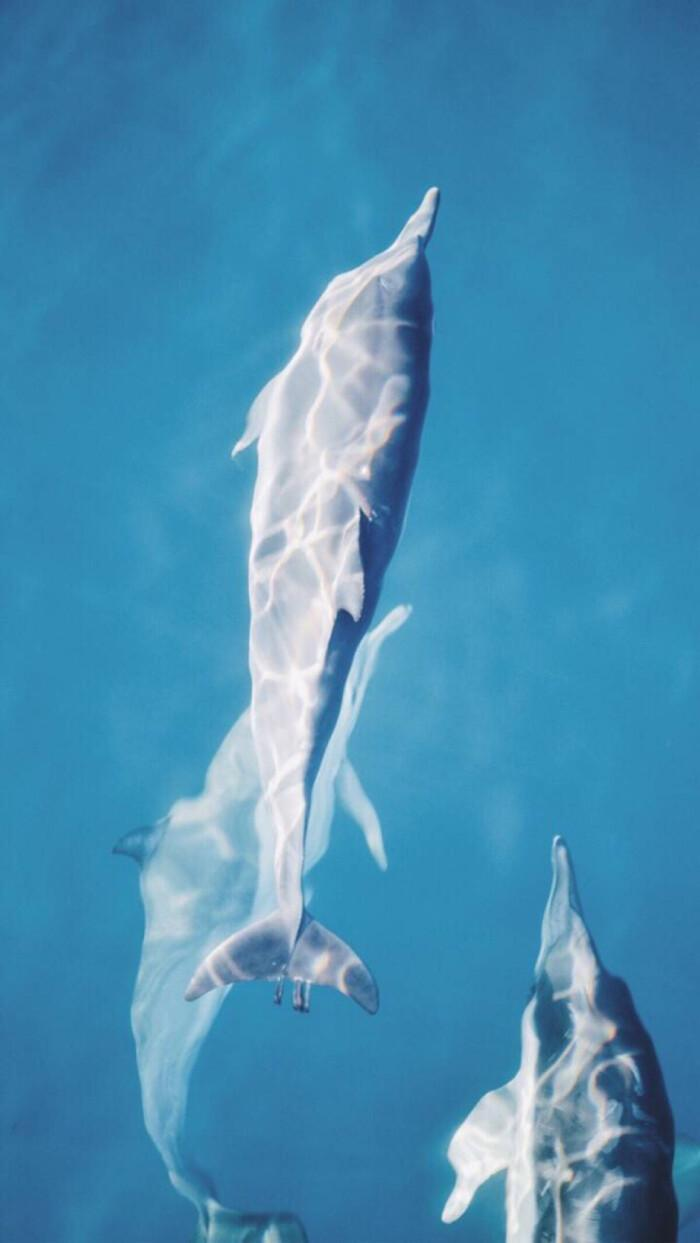fish: (177, 179, 455, 1021)
